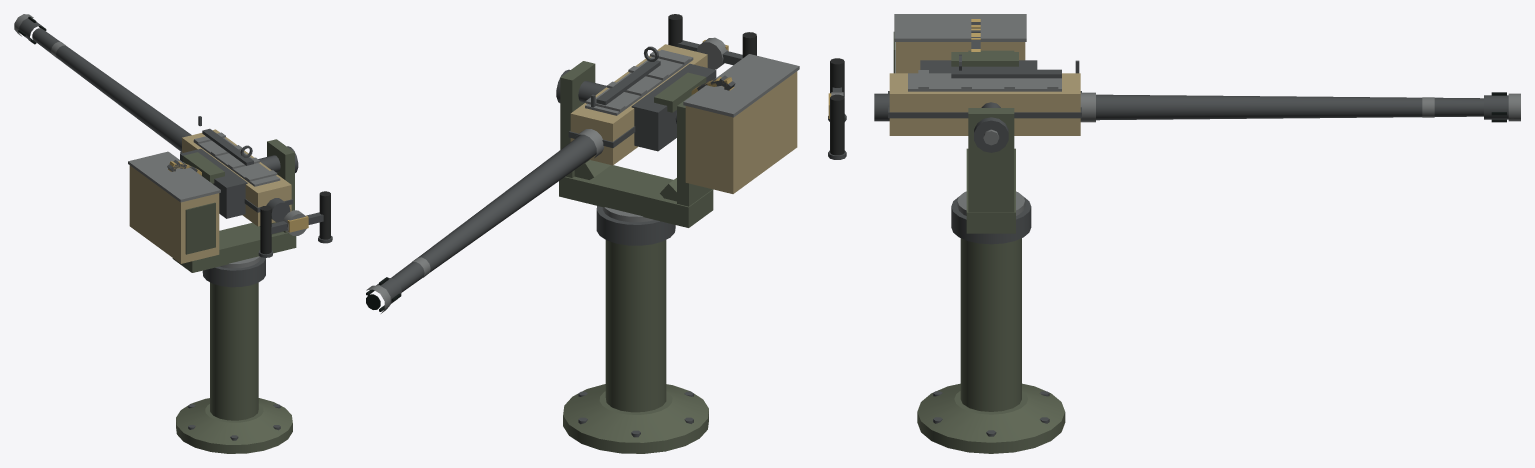
Rendered from bushmaster.glb.
3 renders of one model, left to right at view 1: azimuth 30°, elevation 25°; view 2: azimuth 150°, elevation 25°; view 3: azimuth 270°, elevation 25°, orthographic. The views are drawn at different scales.
Visible parts, largest first — view 1: Mount, BarrelPivot, AmmoCan; view 2: Mount, BarrelPivot, AmmoCan; view 3: BarrelPivot, Mount, AmmoCan.
Part boxes in pixels (x1=…): Mount: x1=172, y1=139, x2=298, y2=453; BarrelPivot: x1=14, y1=14, x2=332, y2=257; AmmoCan: x1=128, y1=151, x2=220, y2=263; Mount: x1=556, y1=61, x2=713, y2=453; BarrelPivot: x1=366, y1=14, x2=756, y2=313; AmmoCan: x1=683, y1=54, x2=799, y2=193; BarrelPivot: x1=828, y1=19, x2=1520, y2=159; Mount: x1=917, y1=50, x2=1065, y2=453; AmmoCan: x1=893, y1=14, x2=1026, y2=73.
Bounding box in the file's own units: 0.715 × 1.32 × 2.25.
